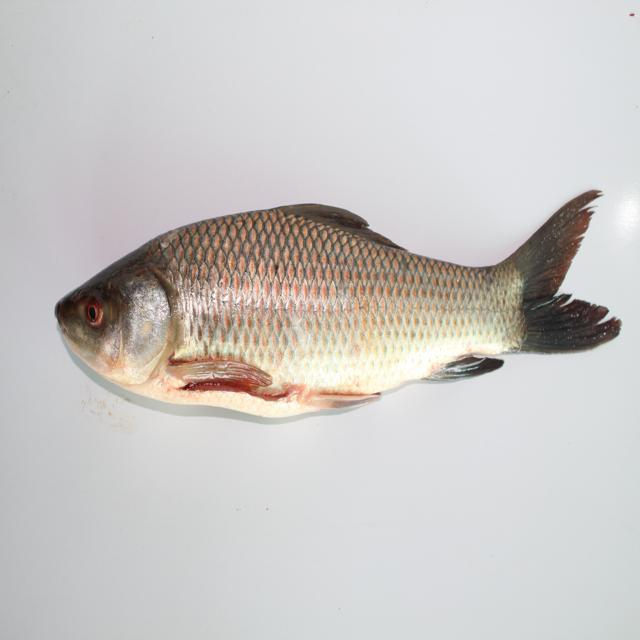Rohu: (48, 194, 600, 441)
